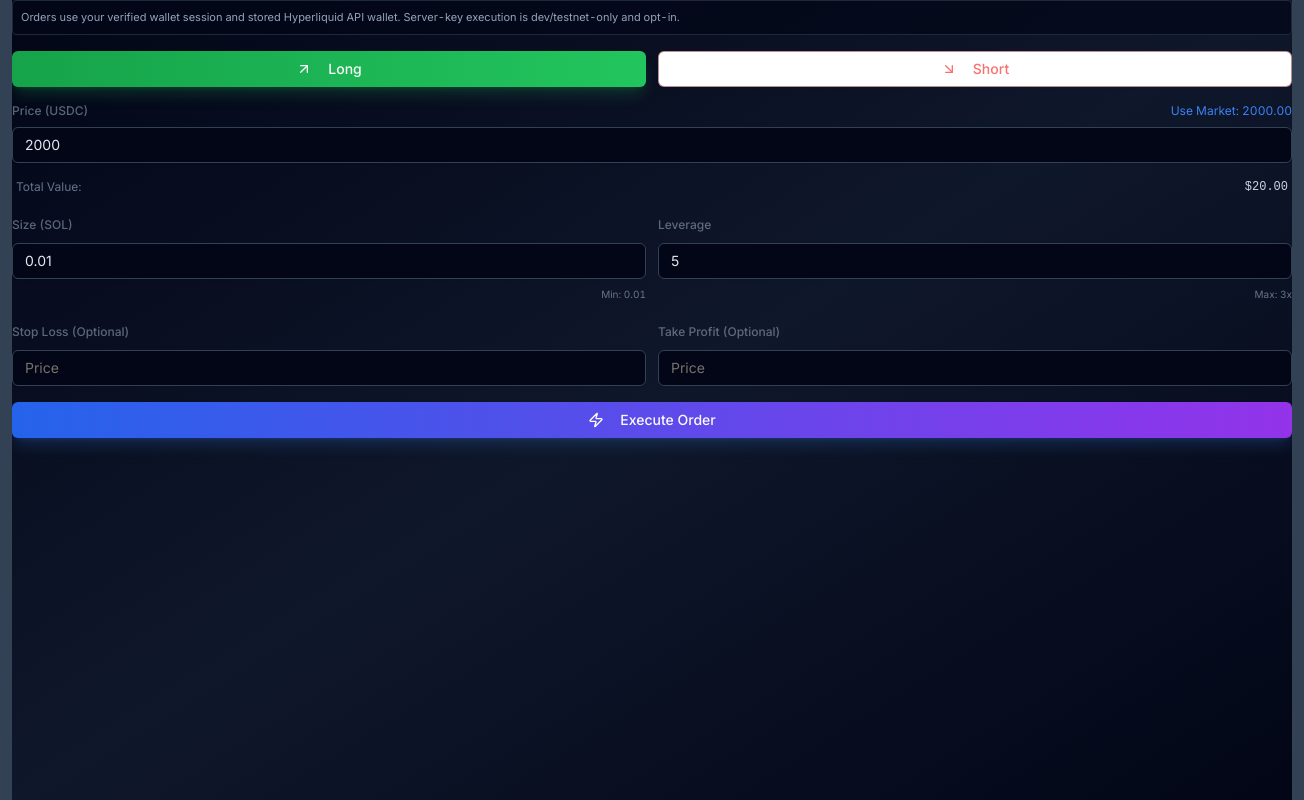
Test case: TradeForm › rejects leverage above asset max before submitting
Replace the text in the number field labelled "Leverage" with "4": (975, 260) left=658, top=242, right=1292, bottom=278
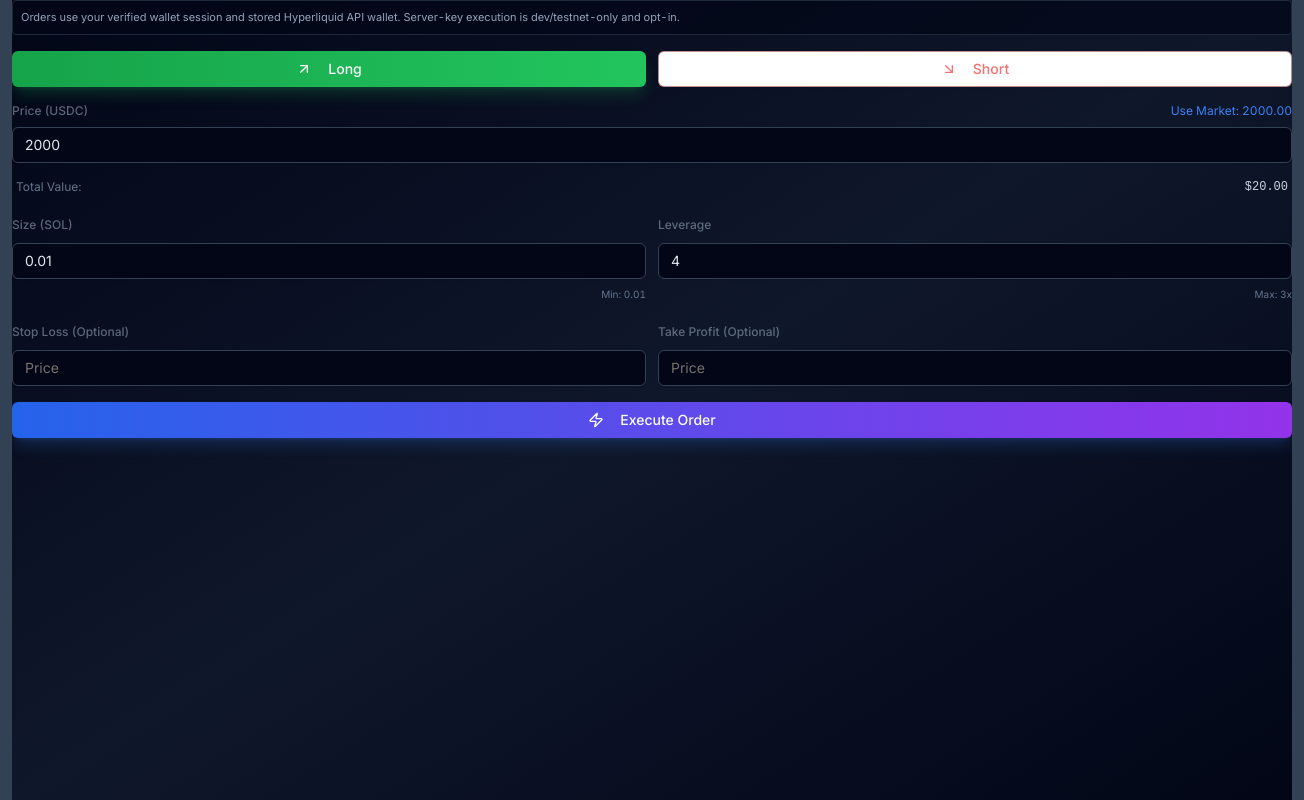
Click the button "Execute Order": (652, 420) left=12, top=402, right=1292, bottom=438
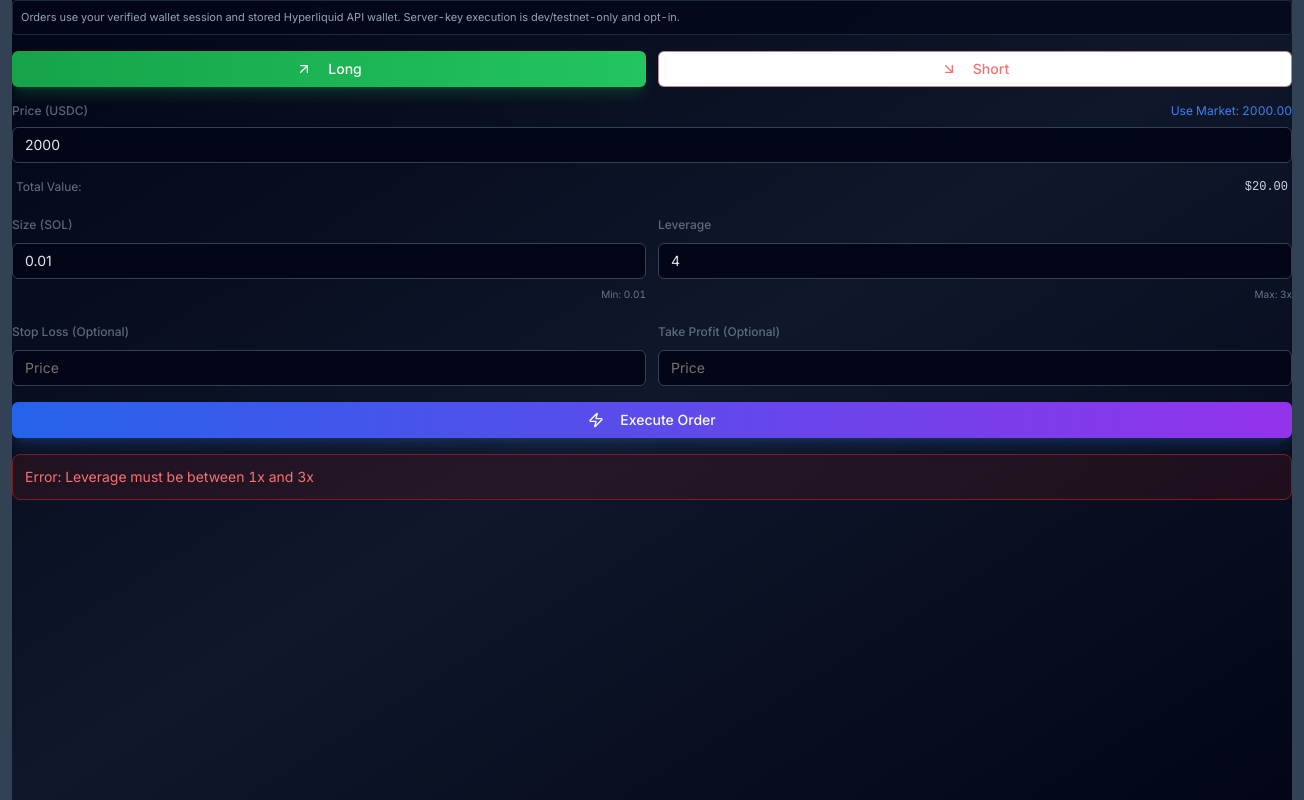
Check: the text "Error: Leverage must be between 1x and 3x" is shown, box left=25, top=468, right=314, bottom=484
